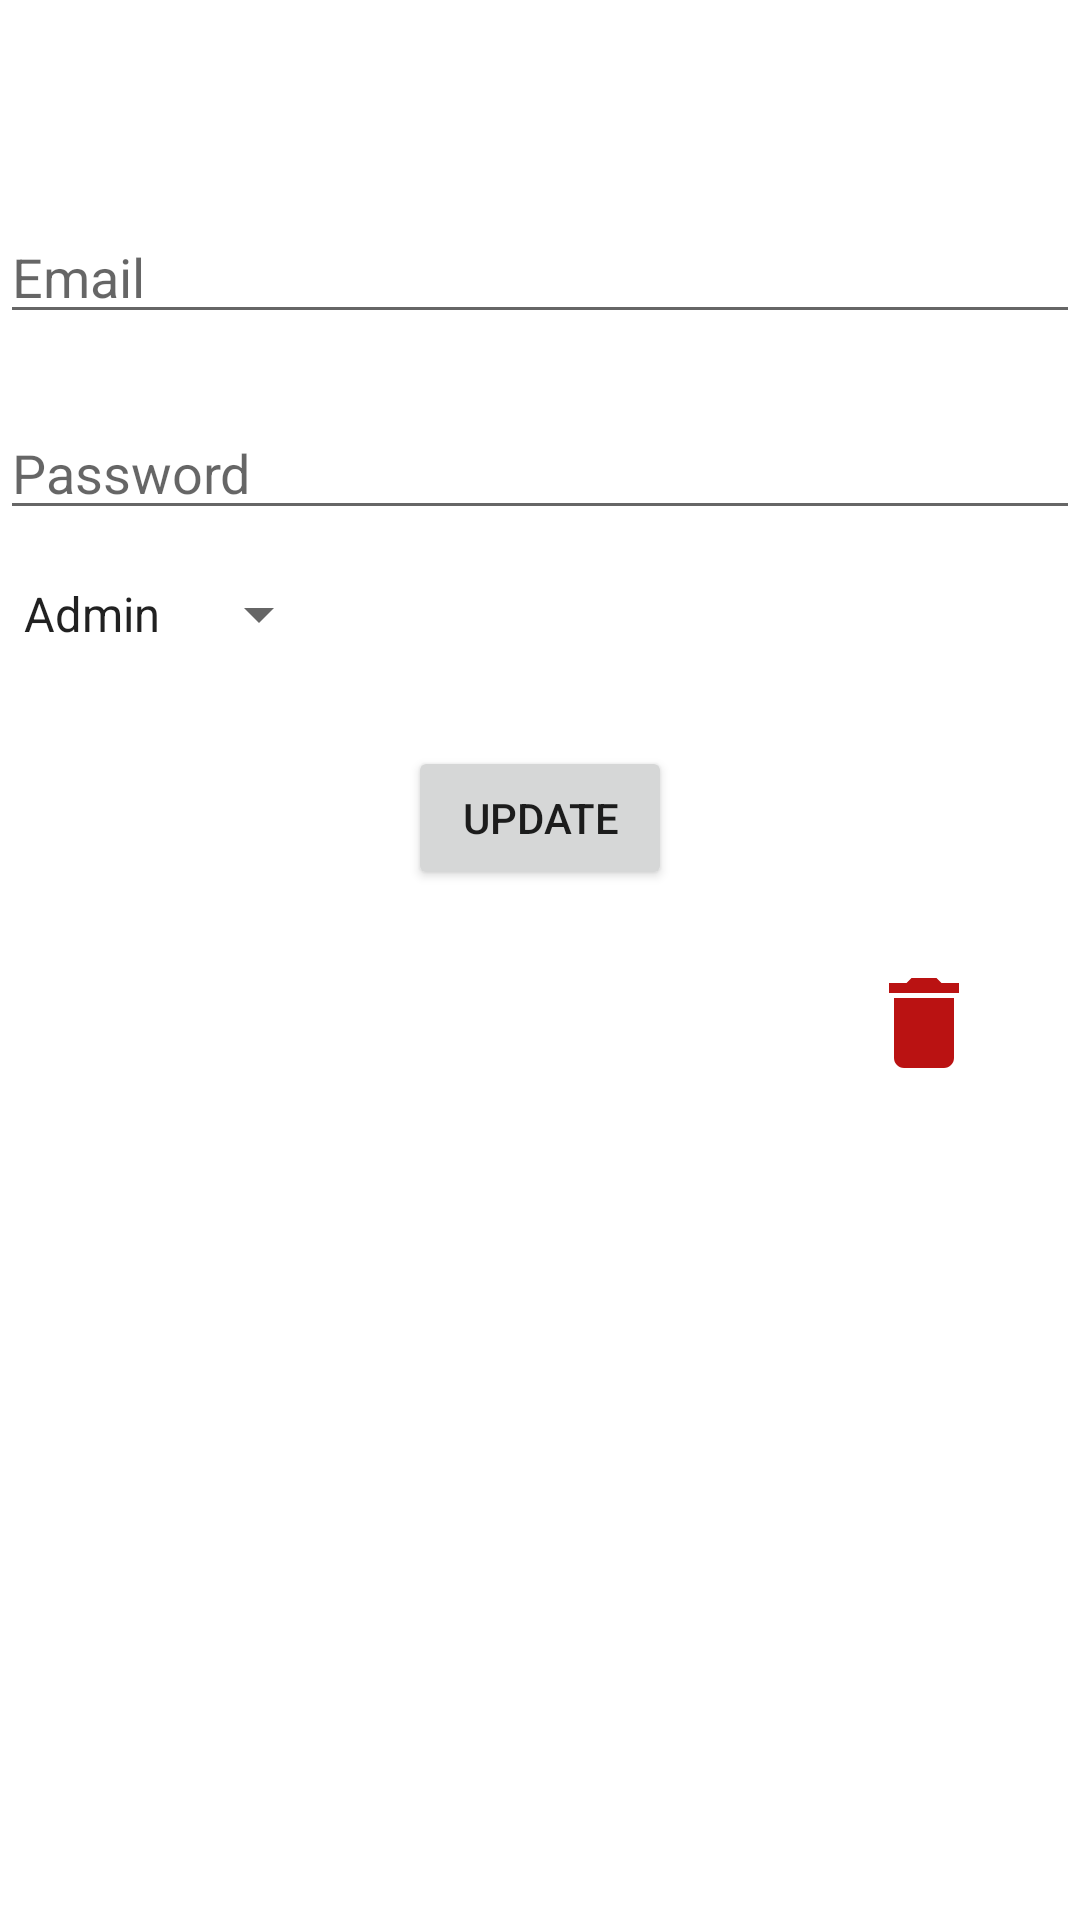

Screen size 1080 x 1920. Icon name, then its box in pixels as (x1, y1, x2, y2):
delete: (889, 978, 959, 1068)
